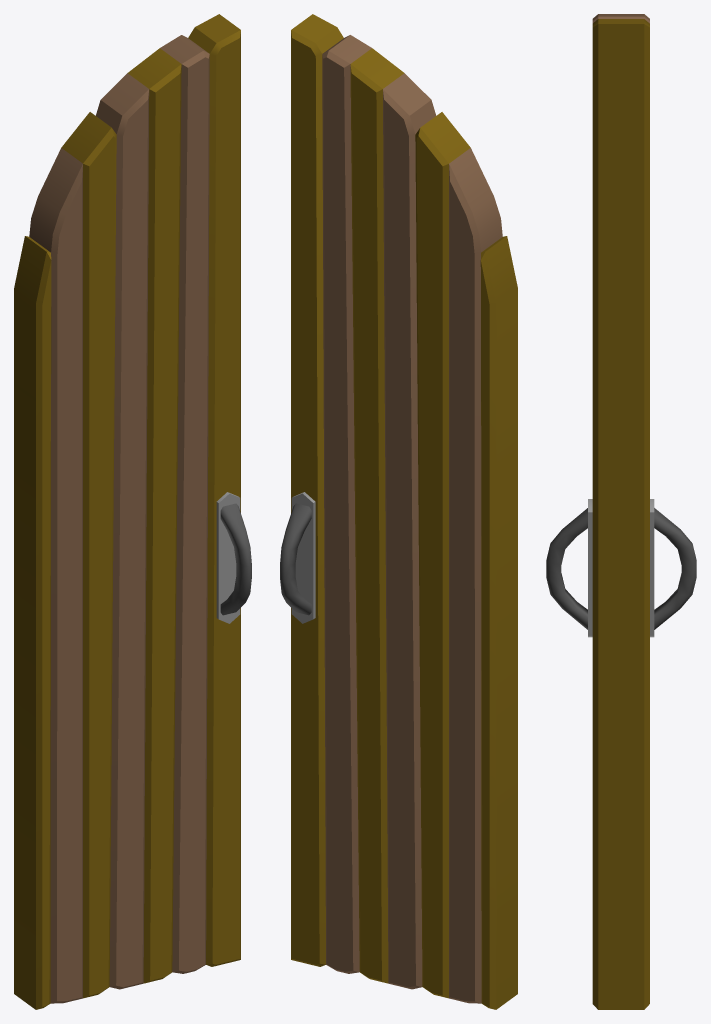
The model's file is HalfArchDoor.FBX.
The picture shows the model from 3 angles, left to right: view 1: azimuth 30°, elevation 25°; view 2: azimuth 150°, elevation 25°; view 3: azimuth 270°, elevation 25°; orthographic projection. The views are drawn at different scales.
Parts seen in each view (by area): view 1: ArchDoor, Handle; view 2: ArchDoor, Handle; view 3: ArchDoor, Handle.
Boxes of the visible parts, <box> form: ArchDoor: <box>14,14,240,1009</box>; Handle: <box>220,503,251,615</box>; ArchDoor: <box>291,14,517,1009</box>; Handle: <box>280,503,311,615</box>; ArchDoor: <box>588,14,654,1009</box>; Handle: <box>546,508,696,629</box>.
Size of the model in its own units: 54.42 by 236 by 32.51.
